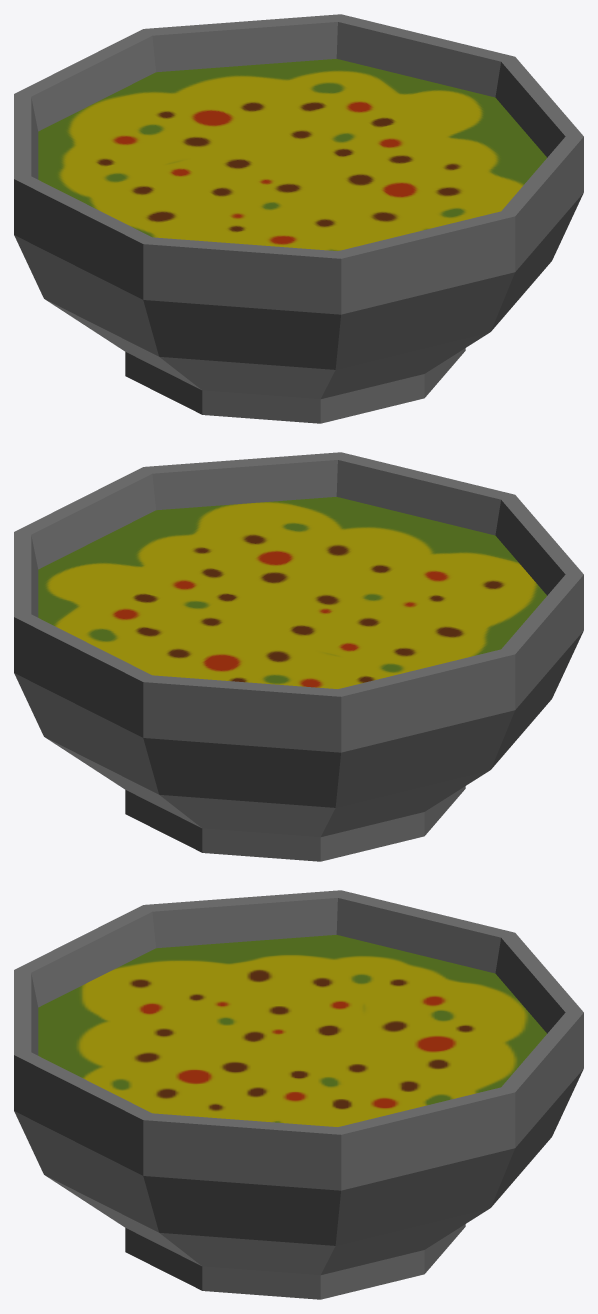
Rendered from Soup3.fbx.
The picture shows the model from 3 angles, top to bottom: view 1: azimuth 30°, elevation 25°; view 2: azimuth 150°, elevation 25°; view 3: azimuth 270°, elevation 25°; orthographic projection.
Visible parts, largest first — view 1: Cylinder; view 2: Cylinder; view 3: Cylinder.
Part boxes in pixels (bbox=[...]): Cylinder: bbox=[14, 14, 583, 423]; Cylinder: bbox=[14, 452, 583, 861]; Cylinder: bbox=[14, 890, 583, 1299].
Bounding box in the file's own units: 273 × 111 × 269.
Materials: 1 (1 with a texture image).
